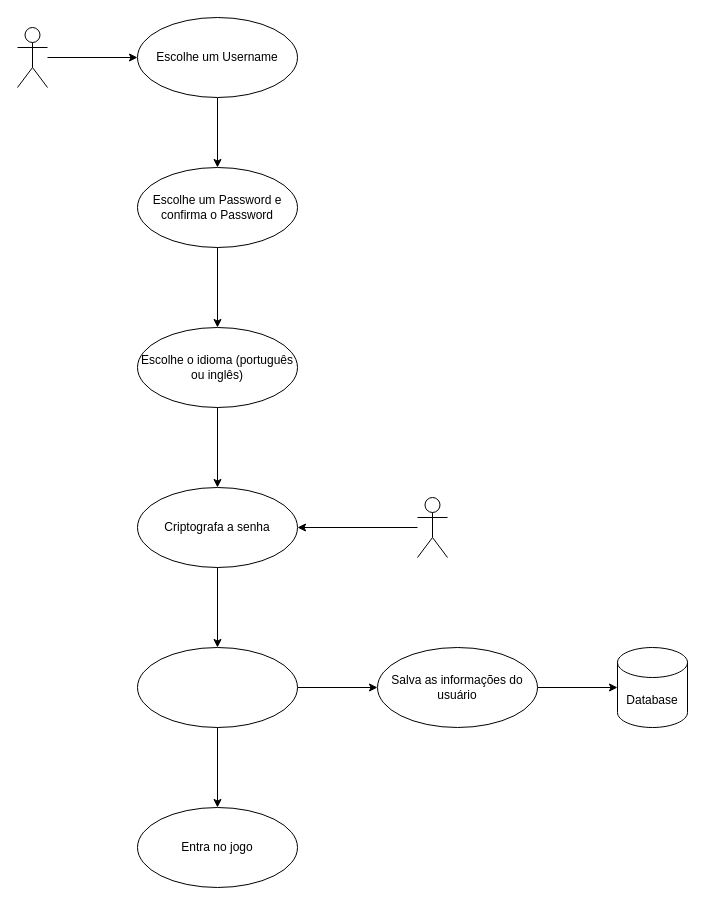
The diagram is 705 pixels wide and 905 high, and some of its shapes have lost their labels. The shapes that lost their labels are listed below. From the top down, each one's centre as x and y in pixels, then its label:
the point at 32,57: User
the point at 432,527: Sistema
the point at 217,687: Verifica se o usuário já existe
